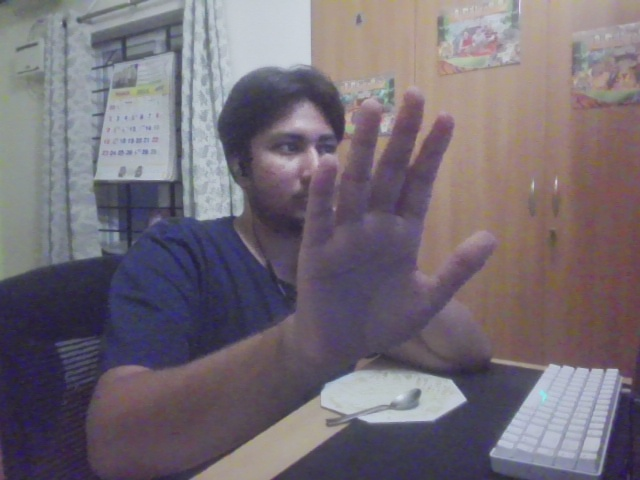hello: (294, 87, 502, 369)
